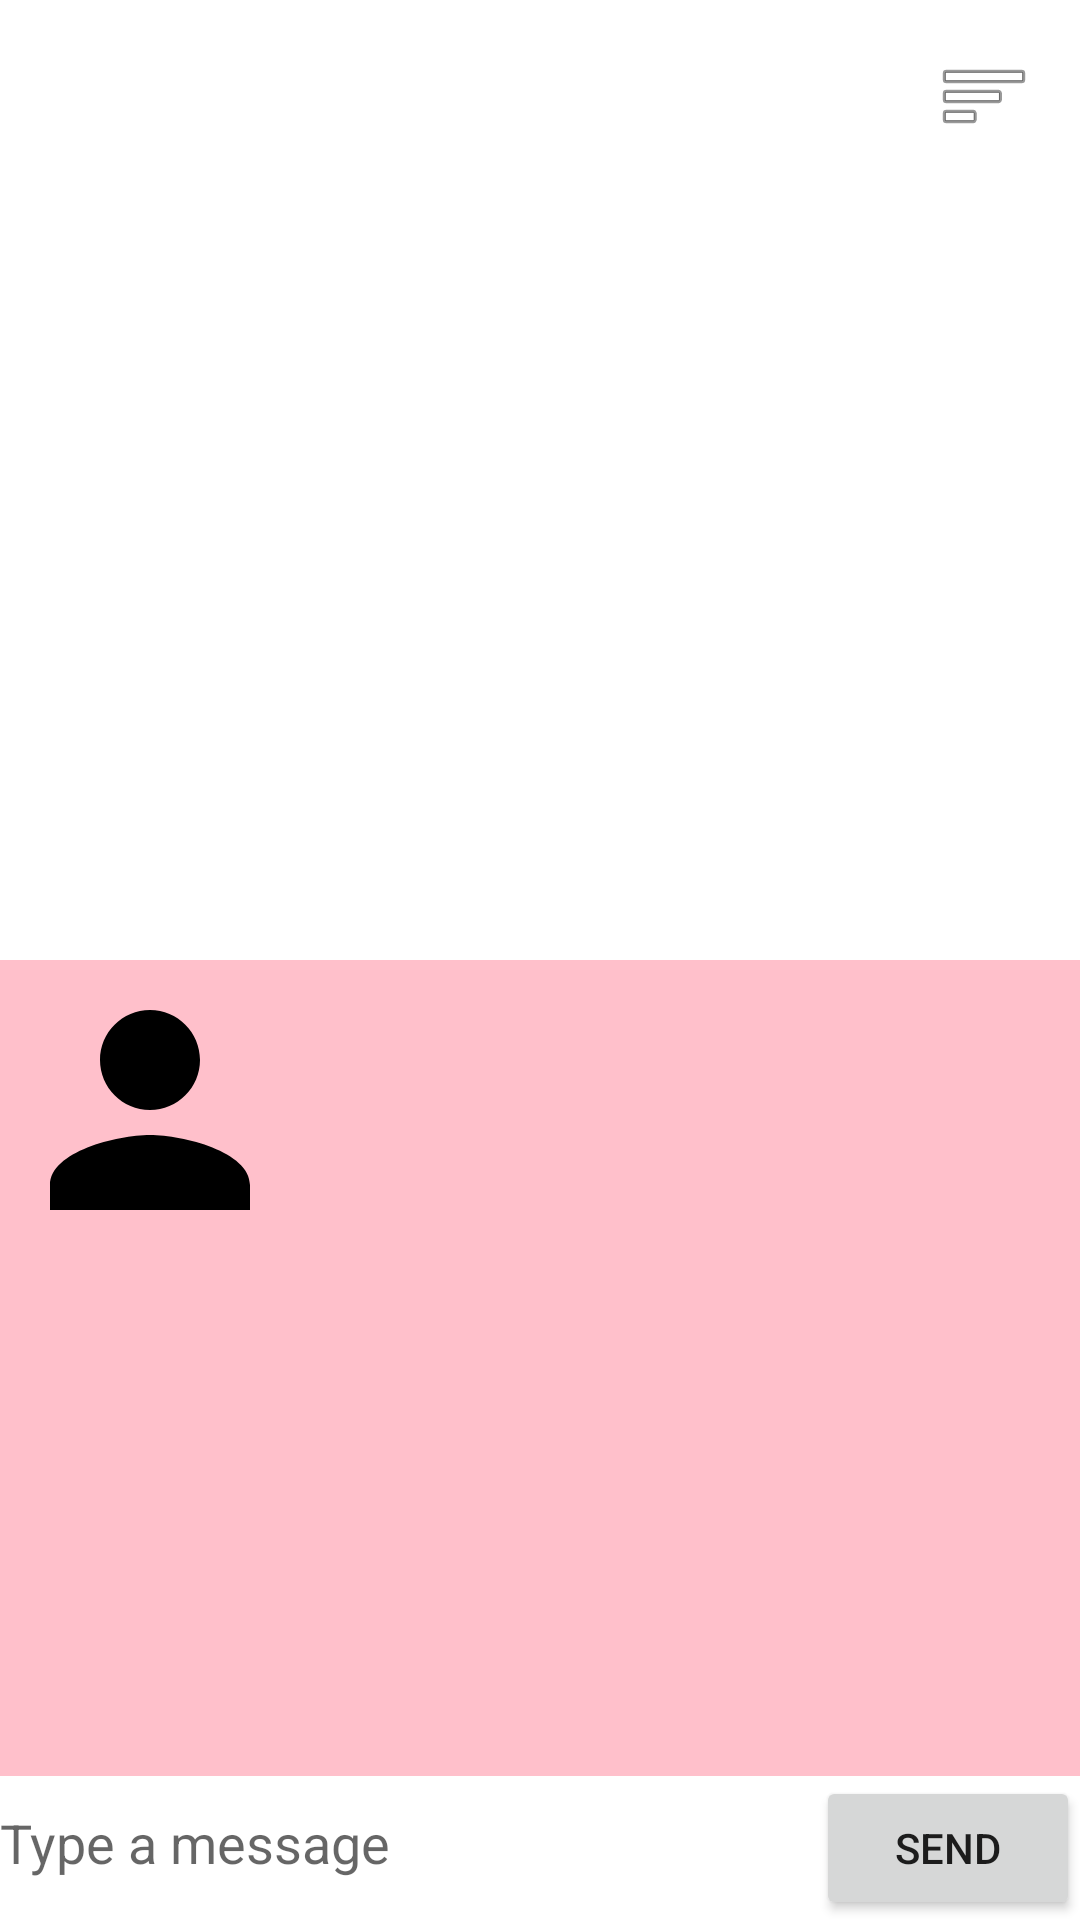

Icon click points for this 1080 × 1920 phone screenshot, format (x=x, y=y):
sort by size: (x=984, y=96)
